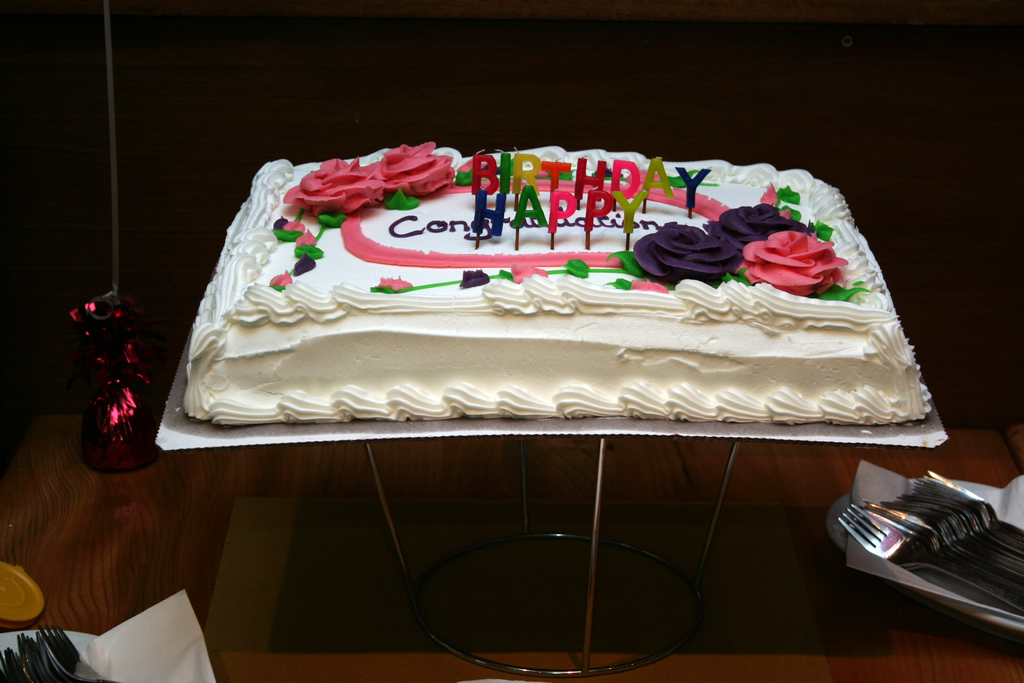cake: (189, 137, 929, 425)
